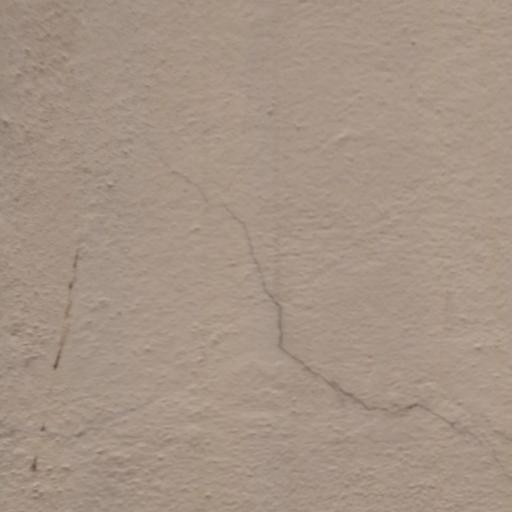minor_crack: (138, 129, 512, 466)
